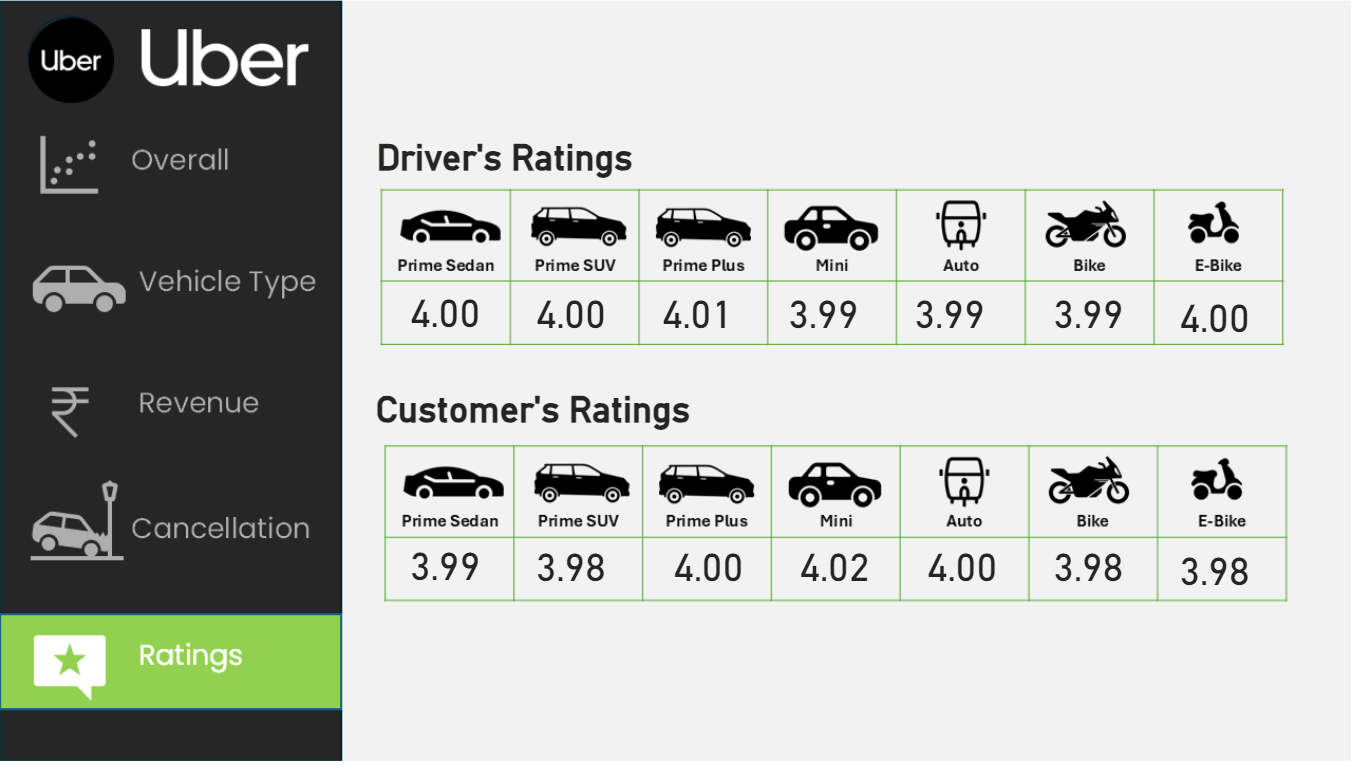

This screenshot's page, from the dashboard's own definition file:
{"tool":"powerbi","page":{"name":"Ratings","canvas":[1280,720],"ordinal":4},"visuals":[{"type":"image","box":[0,2.7,1280,717.3],"z":0},{"type":"actionButton","box":[12.8,452.7,317.9,97.9],"z":1000},{"type":"actionButton","box":[12.8,217.1,317.9,97.9],"z":2000},{"type":"actionButton","box":[12.8,339.2,317.9,97.9],"z":3000},{"type":"actionButton","box":[12.8,119.2,317.9,97.9],"z":4000},{"type":"card","fields":{"Values":["Avg(July.Driver_Ratings)"]},"box":[368,266.7,116,57.3],"z":5000},{"type":"card","fields":{"Values":["Avg(July.Driver_Ratings)"]},"box":[484,272,117.3,48],"z":6000},{"type":"card","fields":{"Values":["Avg(July.Driver_Ratings)"]},"box":[601.3,272,117.3,48],"z":7000},{"type":"card","fields":{"Values":["Avg(July.Driver_Ratings)"]},"box":[718.7,272,117.3,48],"z":8000},{"type":"card","fields":{"Values":["Avg(July.Driver_Ratings)"]},"box":[836,272,117.3,48],"z":9000},{"type":"card","fields":{"Values":["Avg(July.Driver_Ratings)"]},"box":[965.3,272,117.3,48],"z":10000},{"type":"card","fields":{"Values":["Avg(July.Driver_Ratings)"]},"box":[1082.7,276,117.3,48],"z":11000},{"type":"textbox","box":[305.3,362.7,402.7,49.3],"z":12000},{"type":"textbox","box":[350,128.7,261.3,49.3],"z":12001},{"type":"card","fields":{"Values":["Avg(July.Customer_Rating)"]},"box":[368,501.3,116,57.3],"z":12002},{"type":"card","fields":{"Values":["Avg(July.Customer_Rating)"]},"box":[484,506.7,117.3,48],"z":12003},{"type":"card","fields":{"Values":["Avg(July.Customer_Rating)"]},"box":[612,506.7,117.3,48],"z":12004},{"type":"card","fields":{"Values":["Avg(July.Customer_Rating)"]},"box":[729.3,506.7,117.3,48],"z":12005},{"type":"card","fields":{"Values":["Avg(July.Customer_Rating)"]},"box":[848,506.7,117.3,48],"z":12006},{"type":"card","fields":{"Values":["Avg(July.Customer_Rating)"]},"box":[965.3,506.7,117.3,48],"z":12007},{"type":"card","fields":{"Values":["Avg(July.Customer_Rating)"]},"box":[1082.7,510.7,117.3,48],"z":12008}]}

Visuals, with their boxes in screenshot pixels (x1, y1, x2, y2), scaled from the page's 1280x720 canvas onto the 1352x766 screenshot:
image: bbox=[0, 3, 1351, 765]
actionButton: bbox=[14, 482, 349, 586]
actionButton: bbox=[14, 231, 349, 335]
actionButton: bbox=[14, 361, 349, 465]
actionButton: bbox=[14, 127, 349, 231]
card - Avg(July.Driver_Ratings): bbox=[389, 284, 511, 345]
card - Avg(July.Driver_Ratings): bbox=[511, 289, 635, 340]
card - Avg(July.Driver_Ratings): bbox=[635, 289, 759, 340]
card - Avg(July.Driver_Ratings): bbox=[759, 289, 883, 340]
card - Avg(July.Driver_Ratings): bbox=[883, 289, 1007, 340]
card - Avg(July.Driver_Ratings): bbox=[1020, 289, 1143, 340]
card - Avg(July.Driver_Ratings): bbox=[1144, 294, 1268, 345]
textbox: bbox=[322, 386, 748, 438]
textbox: bbox=[370, 137, 646, 189]
card - Avg(July.Customer_Rating): bbox=[389, 533, 511, 594]
card - Avg(July.Customer_Rating): bbox=[511, 539, 635, 590]
card - Avg(July.Customer_Rating): bbox=[646, 539, 770, 590]
card - Avg(July.Customer_Rating): bbox=[770, 539, 894, 590]
card - Avg(July.Customer_Rating): bbox=[896, 539, 1020, 590]
card - Avg(July.Customer_Rating): bbox=[1020, 539, 1143, 590]
card - Avg(July.Customer_Rating): bbox=[1144, 543, 1268, 594]
